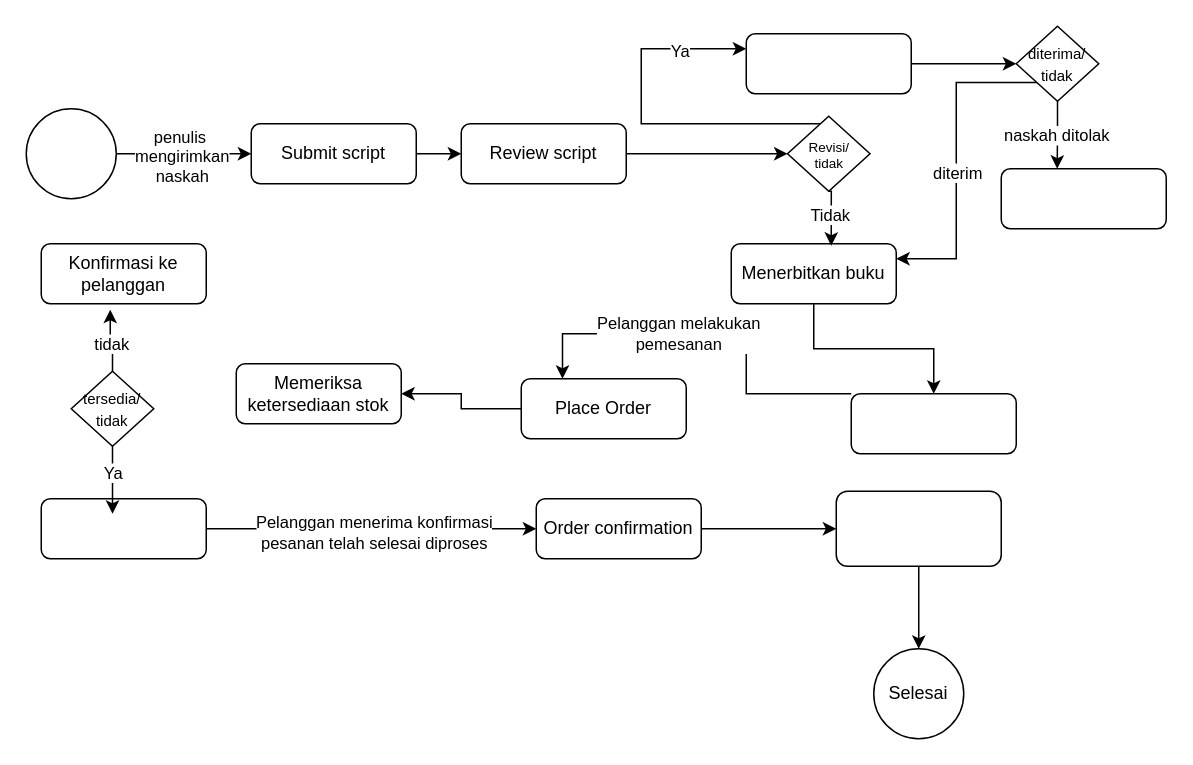
This 1193x765 diagram has some shape labels left out. The centre of each missing label's shape, as x and y in pixels:
Add book to inventory: pixel 933 423
Batal terbit: pixel 1083 198
Memberi revisi: pixel 828 63
Mencatat transaksi dan membuat laporan keuangan: pixel 918 528
Process Order: pixel 123 528
Start: pixel 70 153
